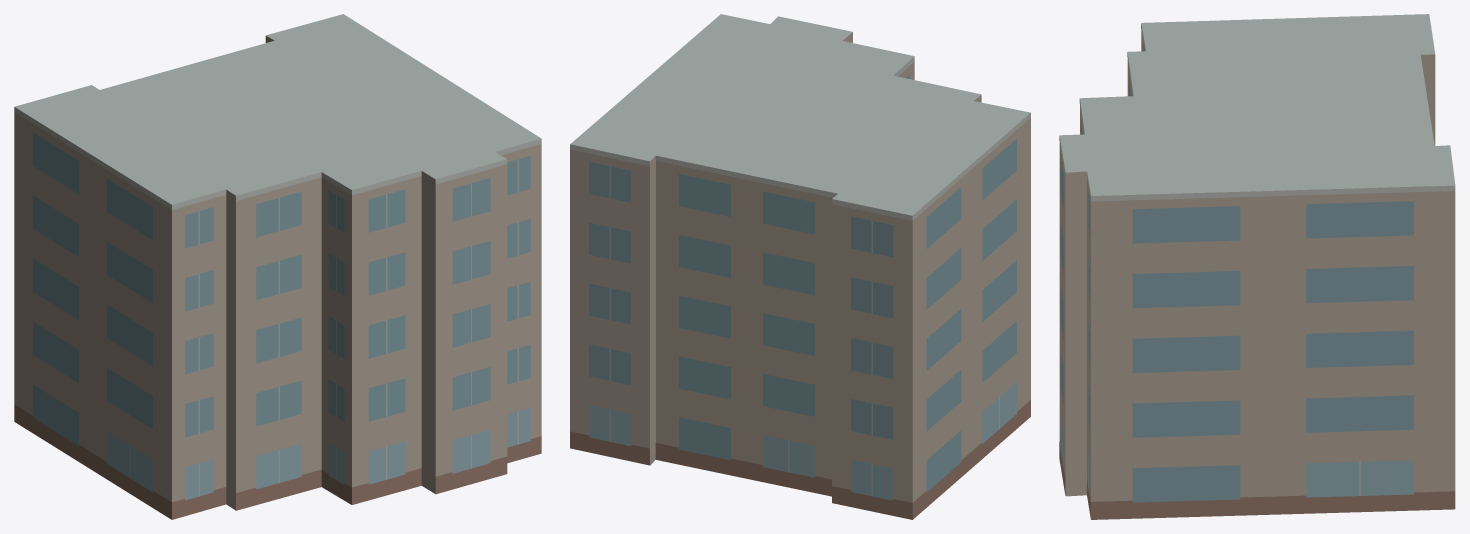
Rendered from survey-upis-32904110.glb.
3 views of the same model, side by side, from view 1: azimuth 30°, elevation 25°; view 2: azimuth 150°, elevation 25°; view 3: azimuth 270°, elevation 25° (orthographic). The views are drawn at different scales.
Parts seen in each view (by area): view 1: survey-upis-32904110.tmp; view 2: survey-upis-32904110.tmp; view 3: survey-upis-32904110.tmp.
Part boxes in pixels (left/top/right/bottom): survey-upis-32904110.tmp: left=14, top=14, right=541, bottom=519; survey-upis-32904110.tmp: left=570, top=14, right=1030, bottom=519; survey-upis-32904110.tmp: left=1059, top=14, right=1455, bottom=519.
Size of the model in its own units: 17.62 by 14.6 by 16.19.
